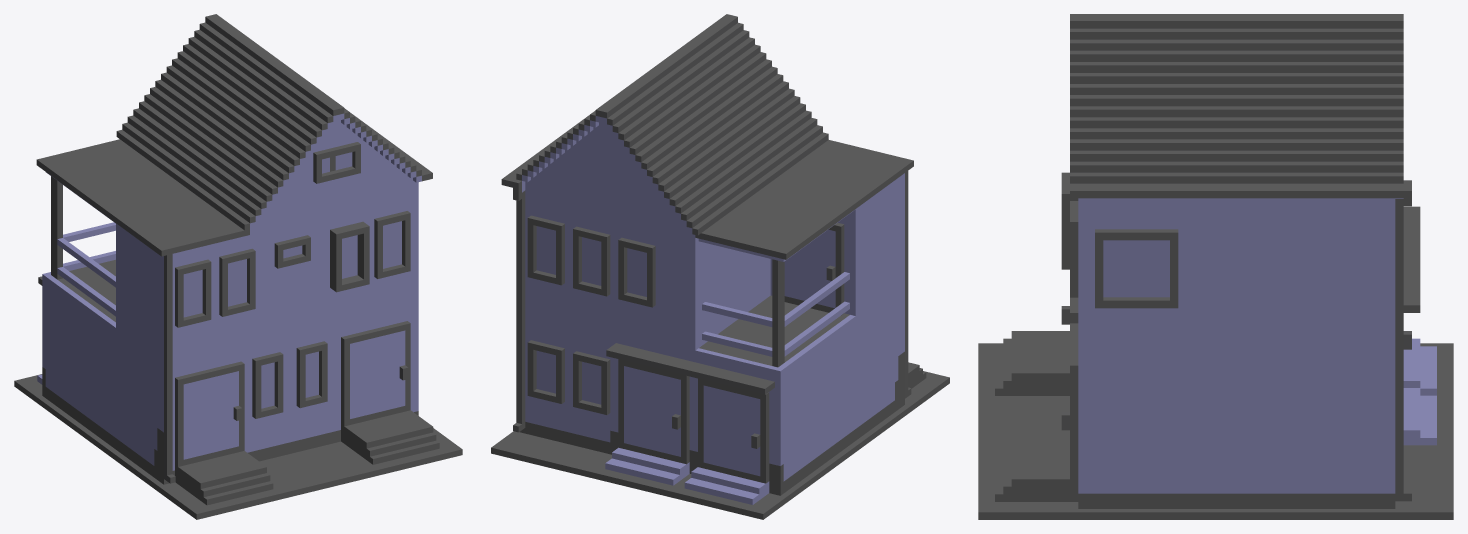
Rendered from bld_house8c.obj.
3 views of the same model, side by side, from view 1: azimuth 30°, elevation 25°; view 2: azimuth 150°, elevation 25°; view 3: azimuth 270°, elevation 25° (orthographic). The views are drawn at different scales.
Bounding box in the file's own units: 49 × 59 × 57.
